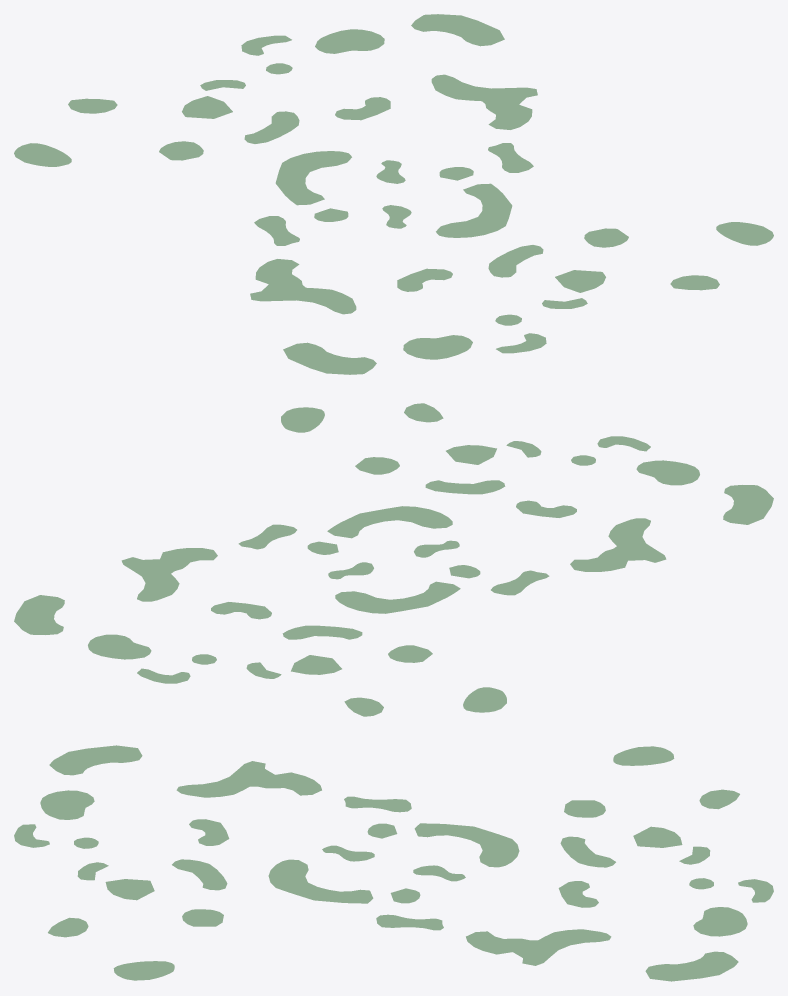
File: ME_Bush_Shape_MOBA_Flip_4.fbx
3 renders of one model, top to bottom at view 1: azimuth 30°, elevation 25°; view 2: azimuth 150°, elevation 25°; view 3: azimuth 270°, elevation 25°, orthographic. The views are drawn at different scales.
Parts seen in each view (by area): view 1: Bush 06.001; view 2: Bush 06.001; view 3: Bush 06.001.
Part boxes in pixels (x1,y1,x2,y2): Bush 06.001: [14, 14, 773, 374]; Bush 06.001: [14, 403, 773, 716]; Bush 06.001: [14, 745, 773, 981].
Size of the model in its own units: 6908 by 0.000801 by 9397.
